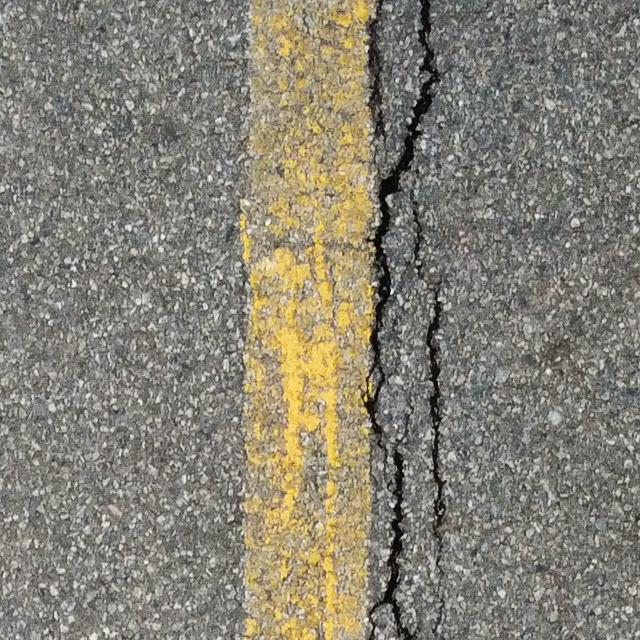LongitudinalCrack: (358, 1, 439, 640), (430, 299, 449, 520)
